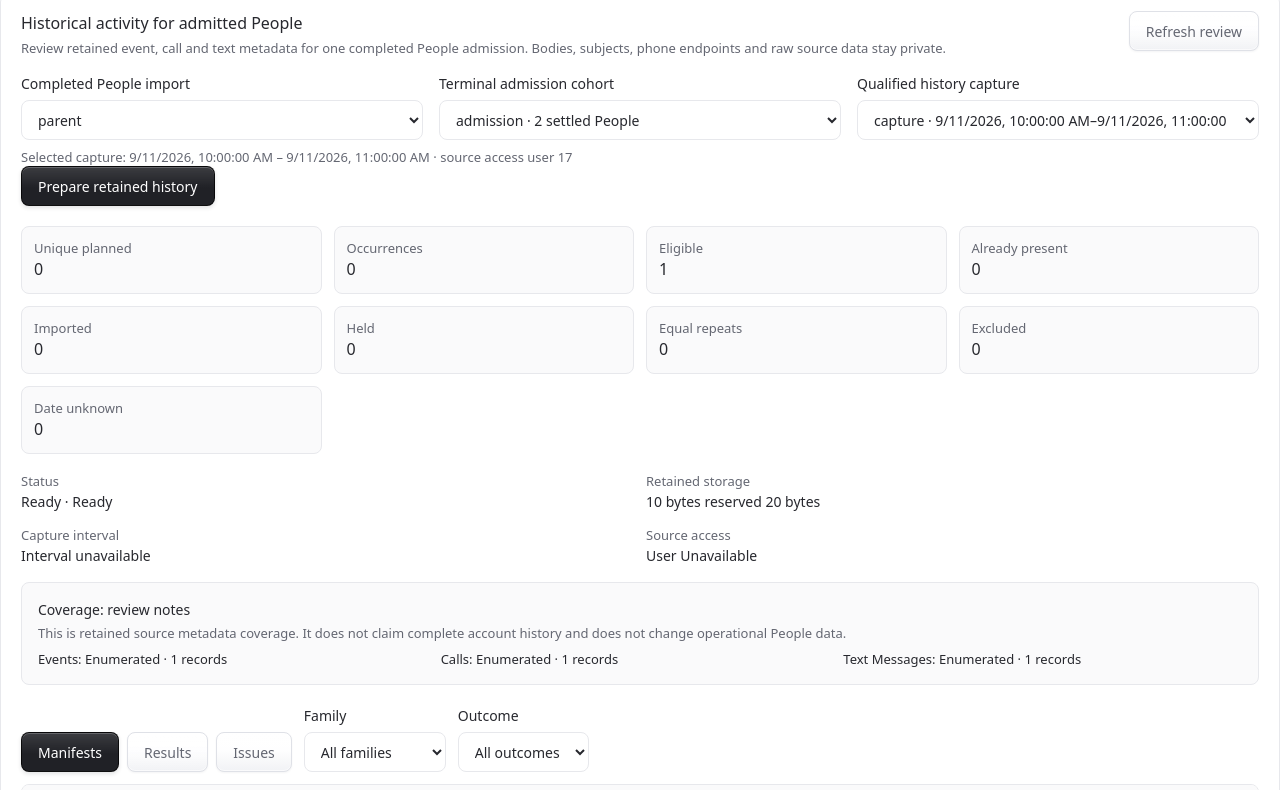
Test case: admitted history workflow › passes family and outcome filters and keeps bounded next/back cursors
Step 1. Select "Events" in the dropdown labelled "Family" → (375, 752), box [304,732,446,772]
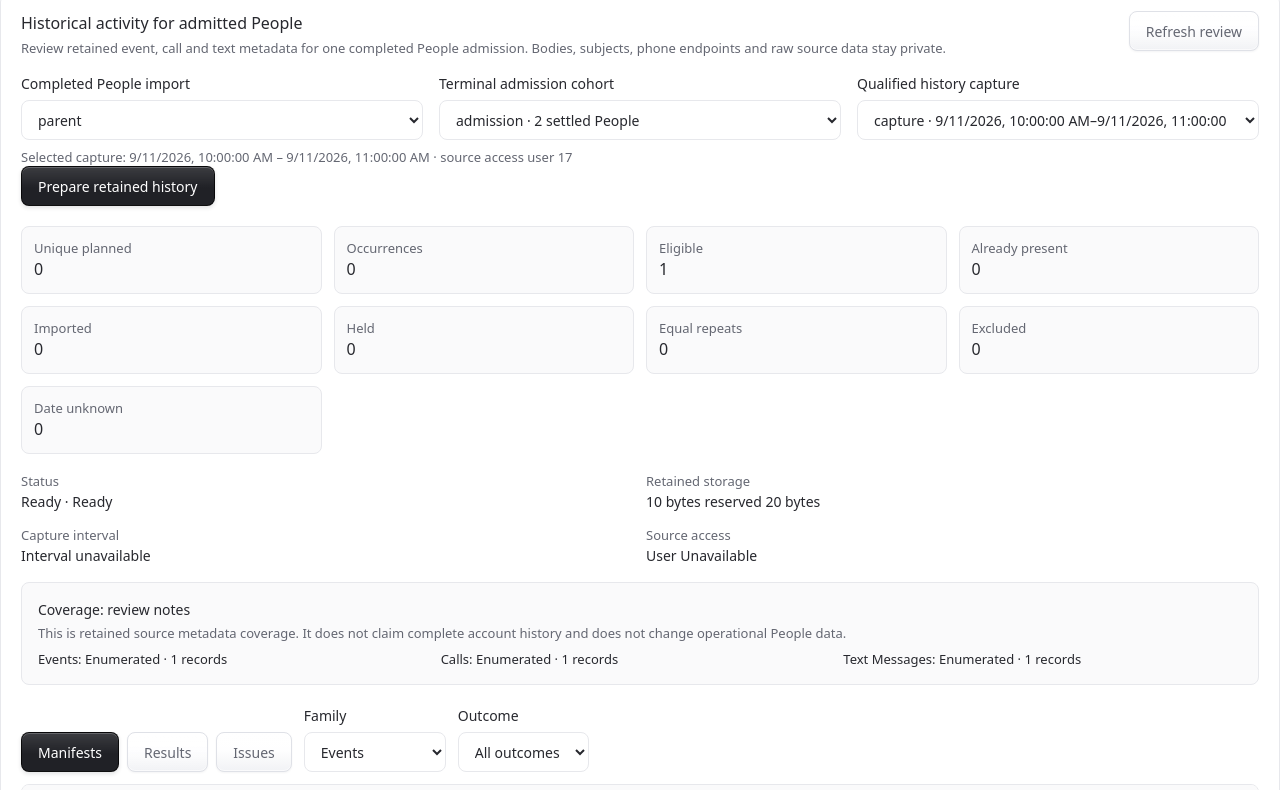
Step 2. Select "Held" in the dropdown labelled "Outcome" → (523, 752), box [458,732,589,772]
(page scrolled)
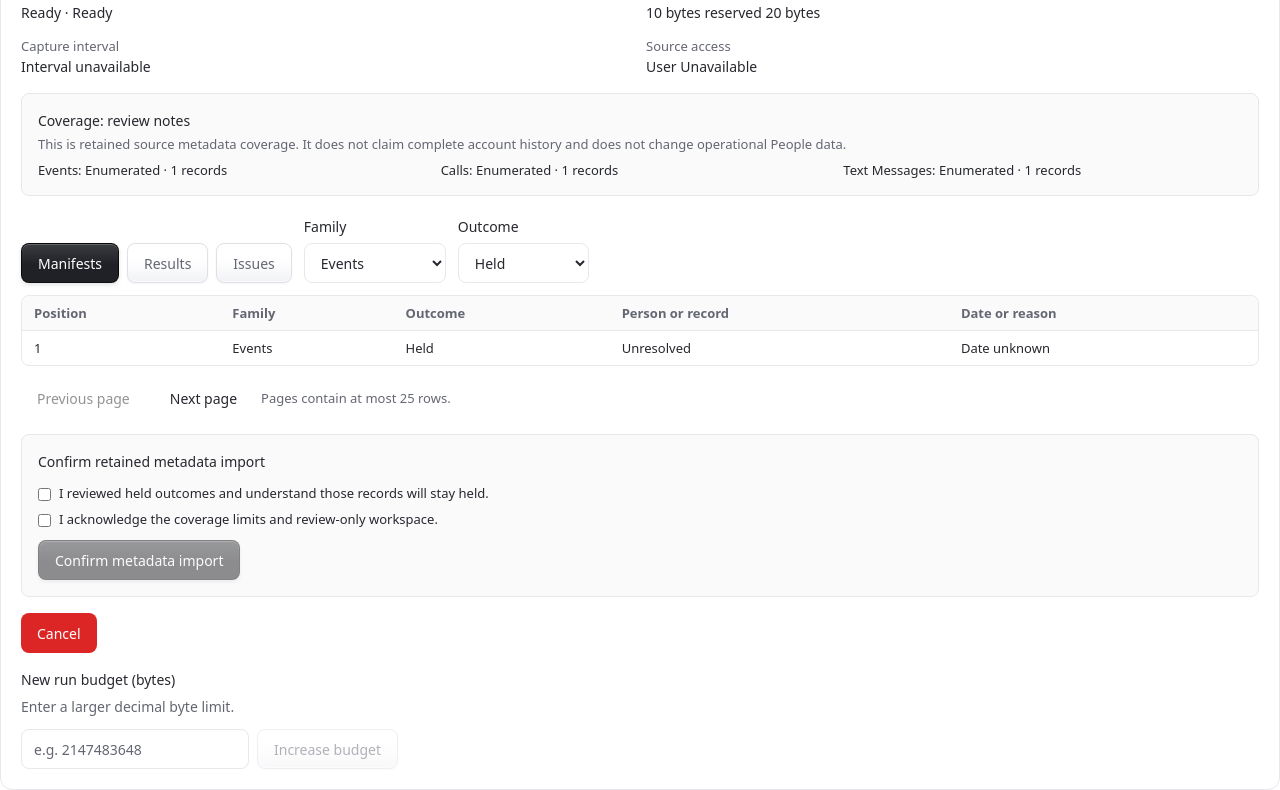
Expected: the button "Next page" is enabled
Step 3. Click the button "Next page" → (203, 398), box [154,378,253,418]
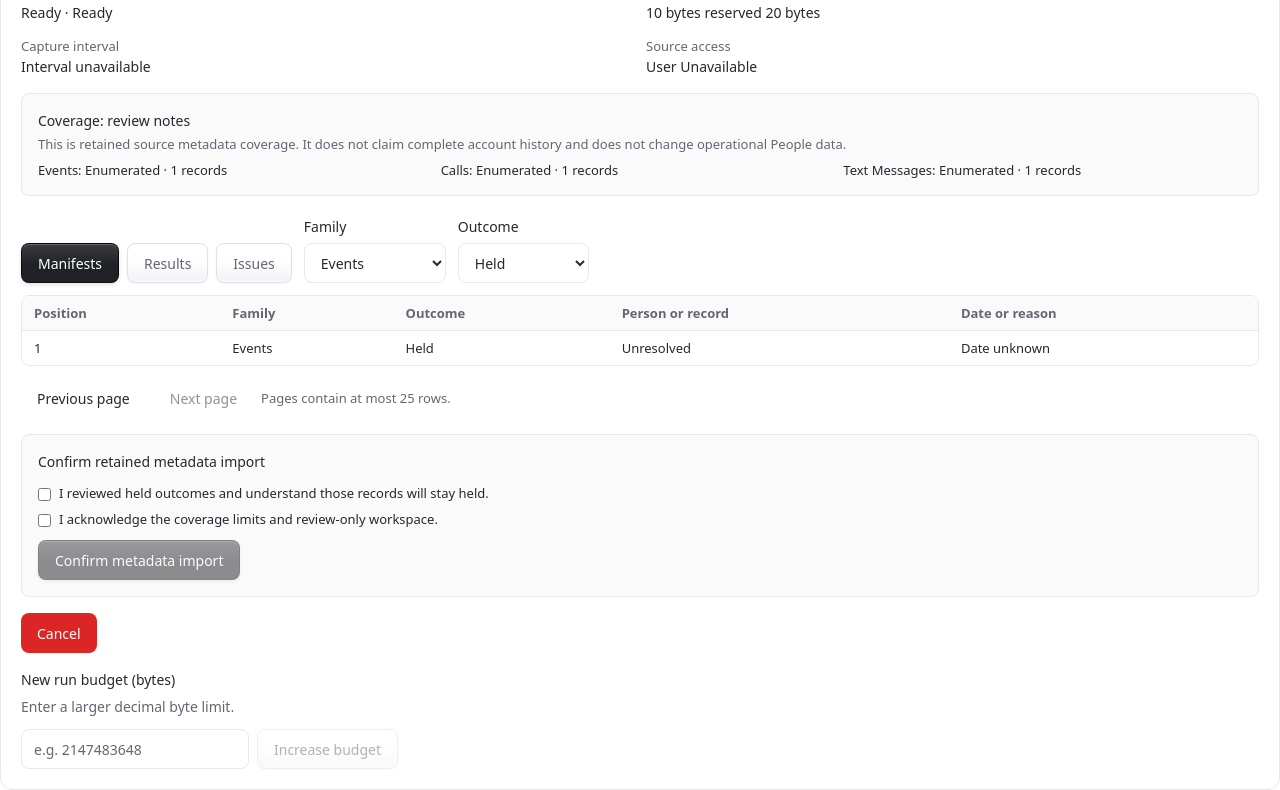
Expected: the button "Previous page" is enabled, [21,378,146,418]
